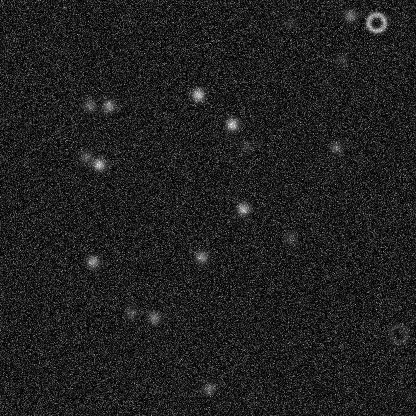Ring: (364, 10, 388, 34), (386, 321, 410, 345)
Spot: (282, 229, 298, 245), (333, 50, 349, 66), (91, 156, 107, 172), (201, 380, 217, 396), (146, 309, 162, 325), (342, 7, 358, 23), (328, 139, 344, 155), (223, 116, 239, 132), (193, 248, 209, 264), (81, 97, 97, 113), (78, 148, 94, 164), (237, 137, 253, 153), (123, 304, 139, 320), (282, 14, 298, 30), (189, 86, 205, 102), (84, 253, 100, 269), (100, 97, 116, 113), (235, 200, 251, 216)
